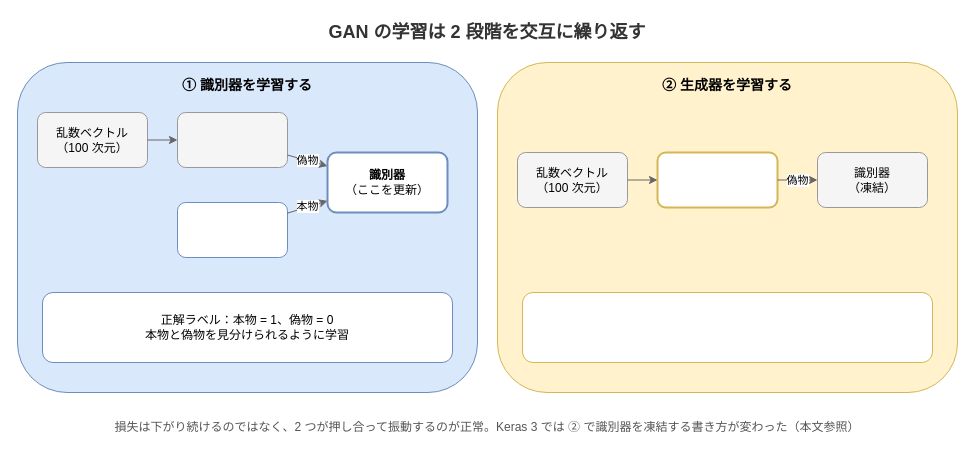
The diagram is 975 pixels wide and 464 high, and some of its shapes have lost their labels. Here are the shapes that lost their labels. From the top down, the centre of each, then its label:
At point (232, 140): "生成器 （更新しない）".
At point (717, 179): "生成器 （ここを更新）".
At point (232, 230): "本物の画像 （MNIST）".
At point (727, 327): "偽物に「本物 = 1」のラベルを付けて学習 識別器をだませる画像を作れるように生成器を学習".
